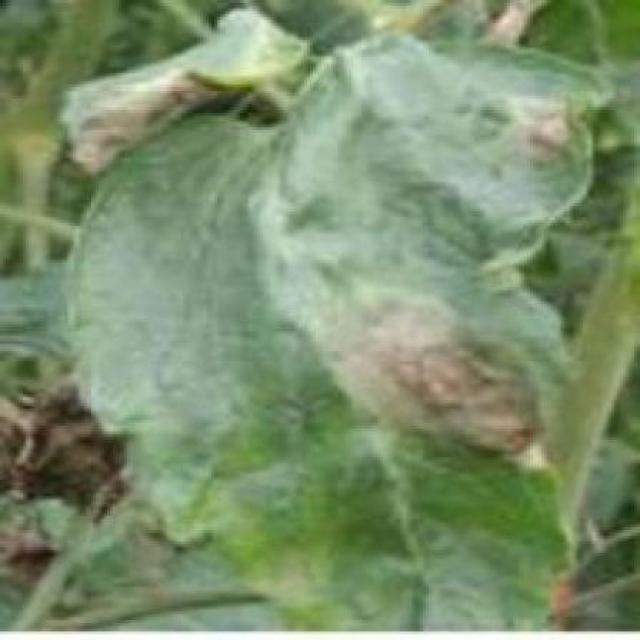Late Blight: (64, 28, 609, 631)
